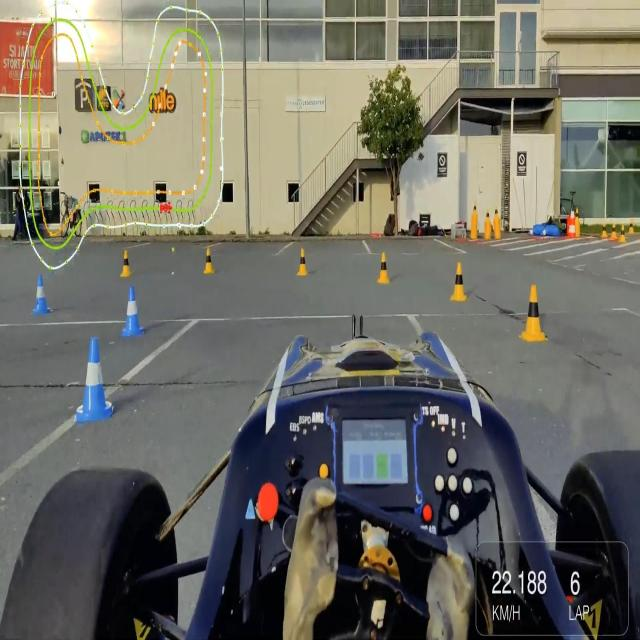blue_cone: (76, 336, 115, 424), (122, 284, 144, 338), (34, 273, 49, 317)
large_orange_cone: (567, 207, 576, 241)
yellow_cone: (518, 280, 548, 345), (449, 259, 468, 303), (376, 252, 392, 286), (296, 247, 309, 278), (203, 247, 216, 276), (120, 250, 132, 279), (601, 219, 608, 241), (620, 223, 626, 244), (611, 222, 616, 241), (629, 218, 634, 234), (472, 202, 477, 218), (485, 210, 490, 226), (494, 206, 498, 220)
